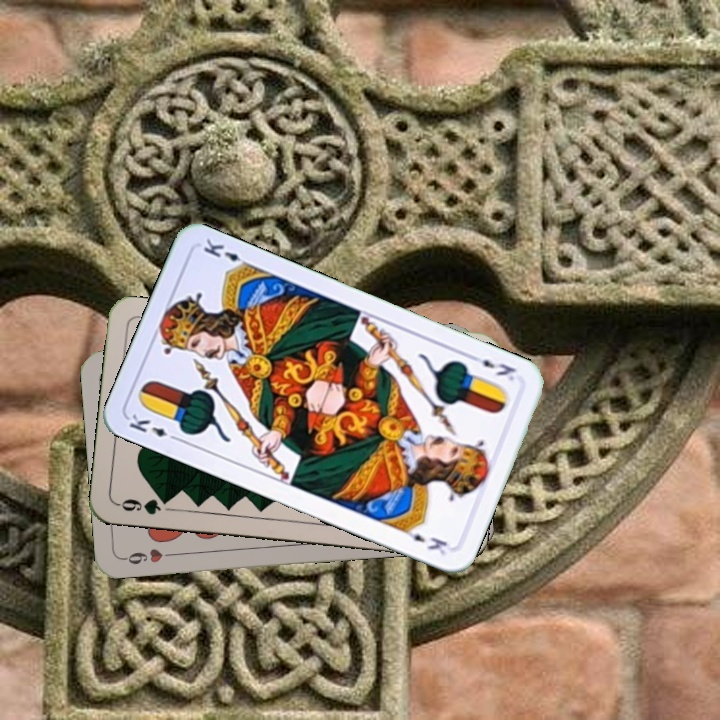EK: (125, 410, 182, 444), (466, 350, 519, 384)
G9: (114, 493, 174, 518)
H9: (119, 544, 178, 567)
